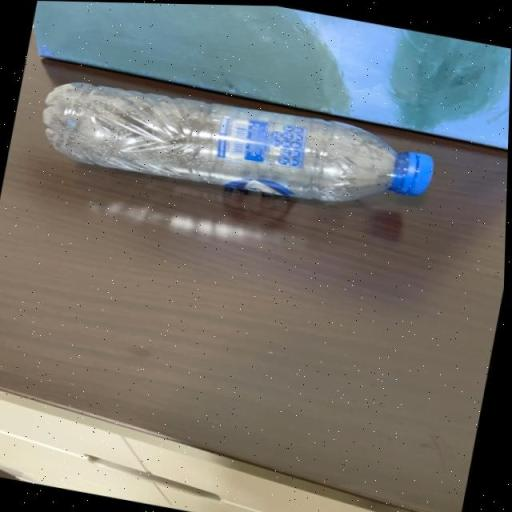plastic: (29, 66, 444, 225)
